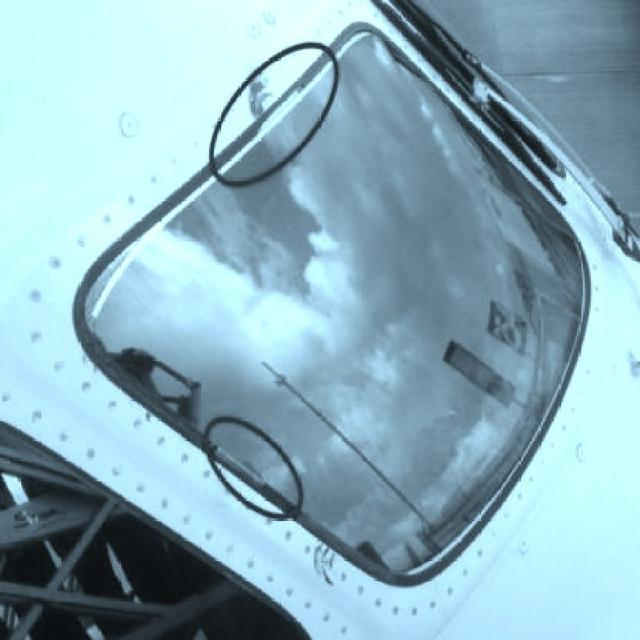crack: (313, 540, 336, 588)
